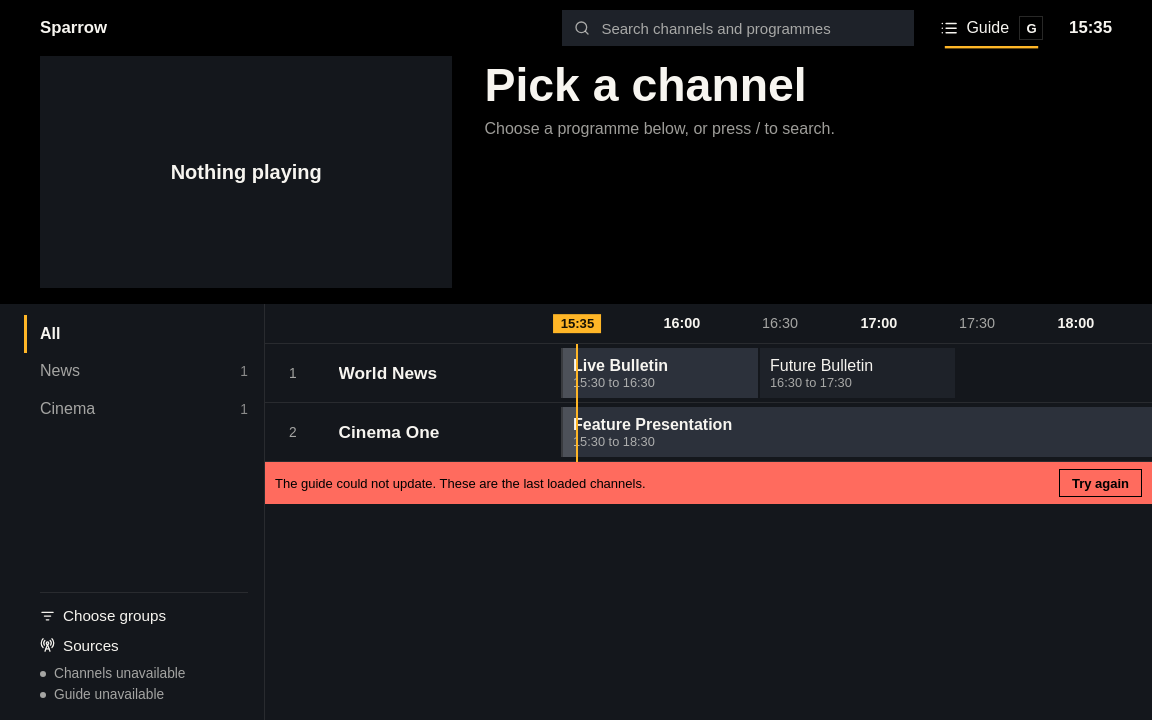
Test: CatalogBrowser shell › retries only status when the visible failure belongs to status
This screenshot has width=1152, height=720.
Expected: the button with aria-label "Tune World News" is shown, x1=339 y1=344 x2=545 y2=402
Expected: the text "The guide could not update. These are the last loaded channels." is shown, x1=275 y1=476 x2=646 y2=491
Click the button "Try again". click: click(1100, 483)
box: x1=1059 y1=469 x2=1142 y2=497
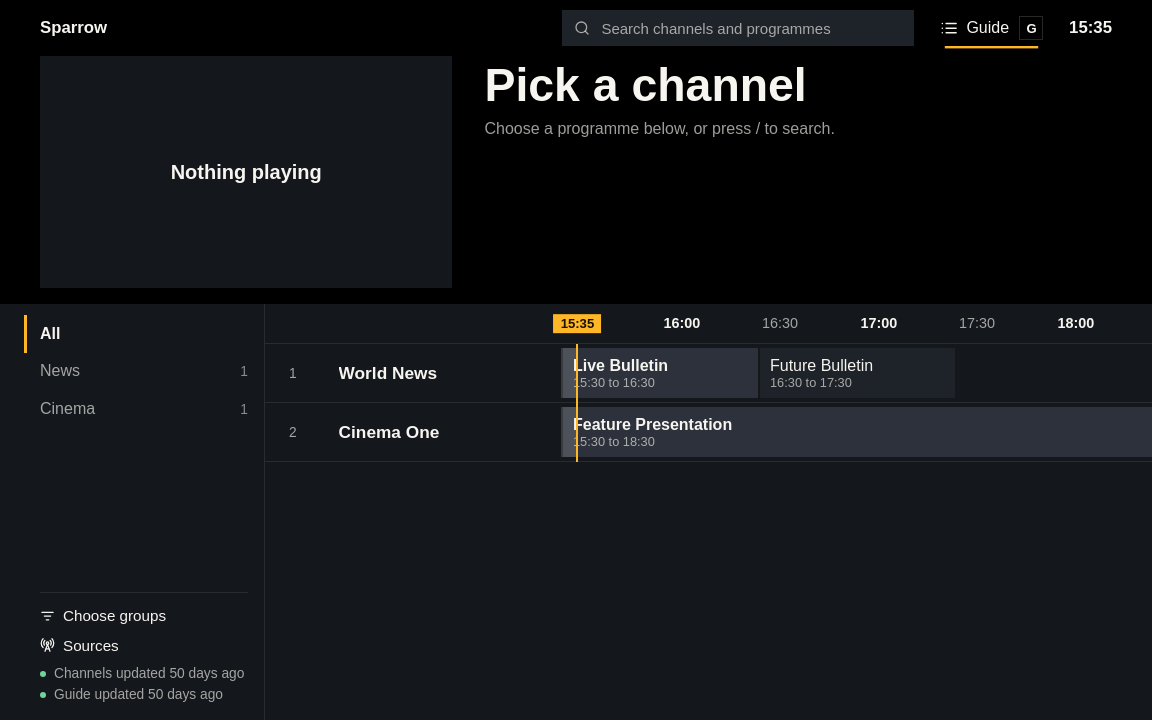
Expected: the text "The guide could not update. These are the last loaded channels." is gone
